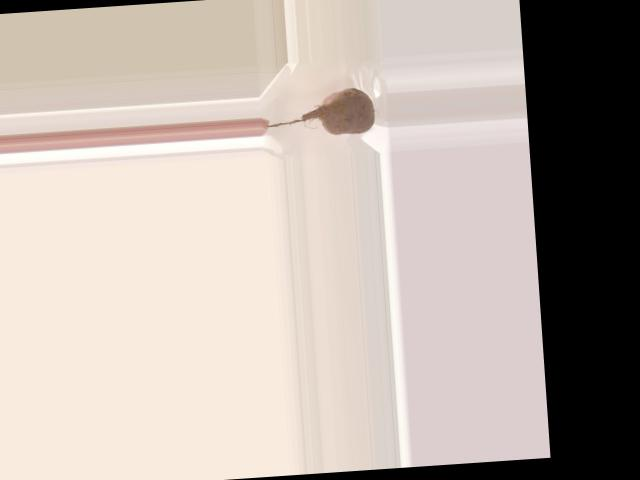beet: (263, 86, 375, 139)
